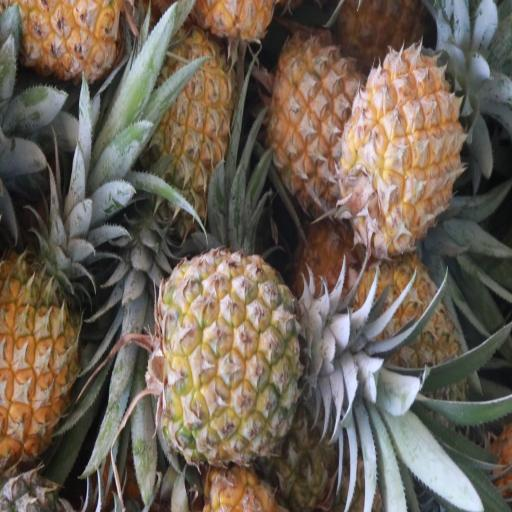------------------------------: (155, 250, 307, 456), (346, 255, 462, 425), (270, 38, 364, 218)
Pineapple - v8 v1: (343, 48, 462, 248), (144, 31, 228, 230), (0, 267, 80, 470)
